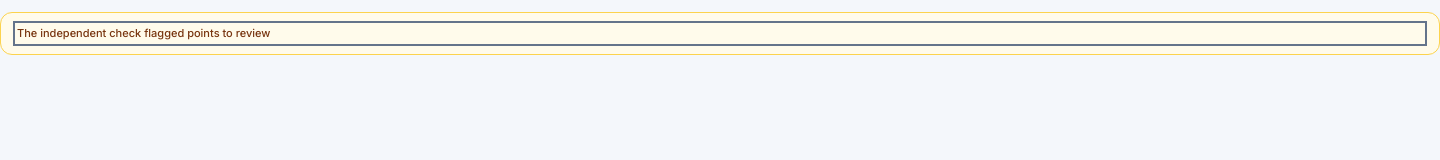
Scenario: EngineDetails › is keyboard reachable and expands via summary
Click the heading "The independent check flagged points to review". click: point(144, 33)
box: x1=17 y1=26 x2=270 y2=40
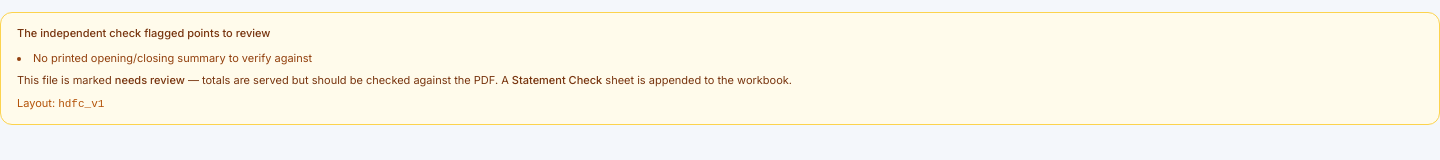
expect the list item "No printed opening/closing summary to verify against" is shown: met, box x1=33 y1=50 x2=312 y2=64
